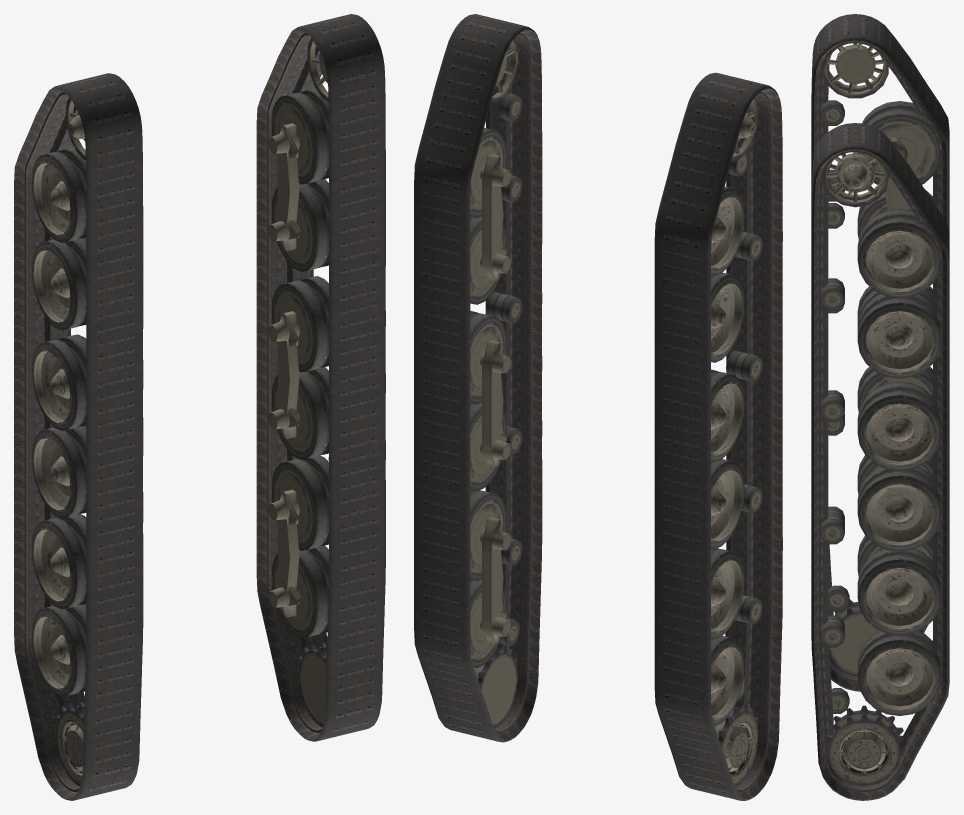
The model's file is Chassis.glb.
3 views of the same model, side by side, from view 1: azimuth 30°, elevation 25°; view 2: azimuth 150°, elevation 25°; view 3: azimuth 270°, elevation 25° (orthographic). The views are drawn at different scales.
Visible parts, largest first — view 1: set_1_group_0, set_0_group_0, set_3_group_0, set_2_group_0; view 2: set_1_group_0, set_0_group_0, set_3_group_0, set_2_group_0; view 3: set_3_group_0, set_0_group_0, set_2_group_0, set_1_group_0.
Part boxes in pixels (x1,y1,x2,y2): set_1_group_0: (14, 73, 143, 800); set_0_group_0: (256, 14, 385, 741); set_3_group_0: (268, 38, 328, 727); set_2_group_0: (32, 98, 86, 786); set_1_group_0: (654, 72, 782, 800); set_0_group_0: (414, 14, 542, 742); set_3_group_0: (470, 37, 522, 728); set_2_group_0: (711, 97, 762, 786); set_3_group_0: (820, 152, 940, 785); set_0_group_0: (811, 123, 949, 800); set_2_group_0: (821, 43, 940, 676); set_1_group_0: (811, 14, 949, 691).
Size of the model in its own units: 3.21 by 7.3 by 1.4.
4 materials, 4 textured.
